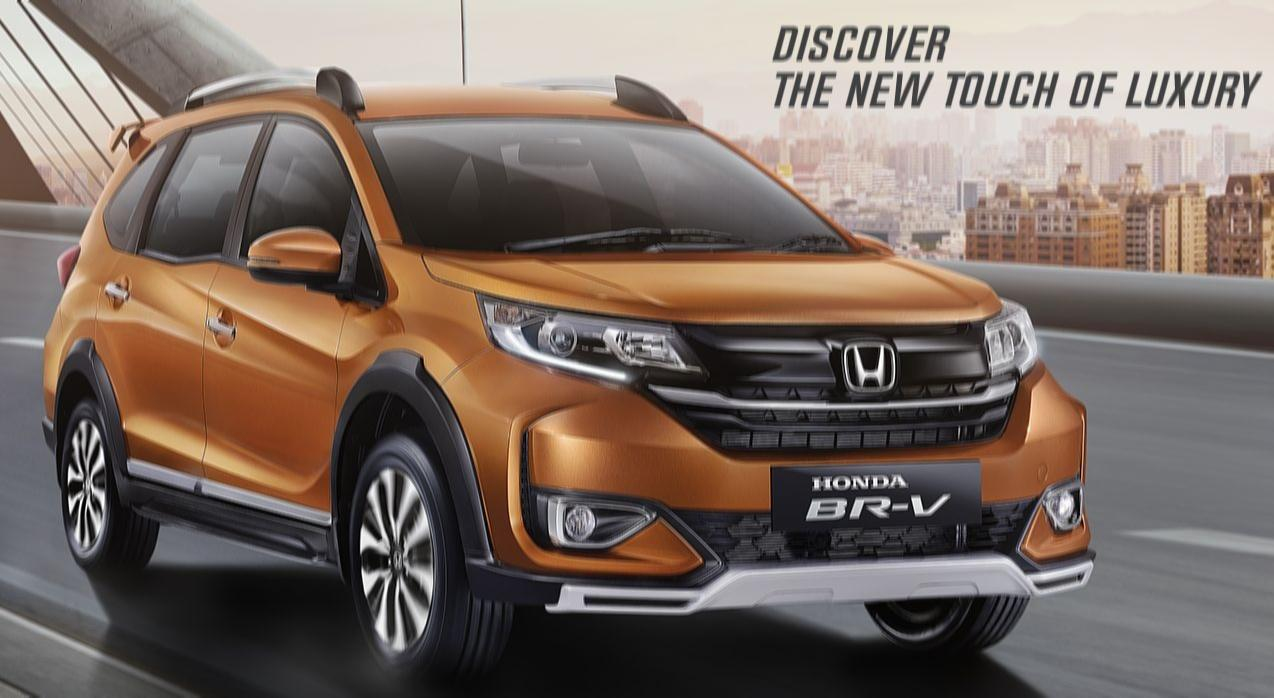Car hood: (420, 242, 1023, 329)
Driver-s door - -F-R-: (178, 59, 370, 575)
Fender - -F-R-: (330, 245, 485, 528)
Fender - -R-R-: (29, 119, 147, 450)
Front bumper: (431, 346, 1105, 628)
Headlight - -L-: (982, 298, 1045, 391)
Headlight - -R-: (473, 285, 708, 398)
Passenger-s door - -R-R-: (77, 70, 278, 546)
Rear bumper: (28, 332, 86, 454)
Rear light - -R-: (54, 242, 80, 296)
Side bumper - -R-: (118, 460, 340, 571)
Side mirror - -R-: (242, 223, 367, 309)
